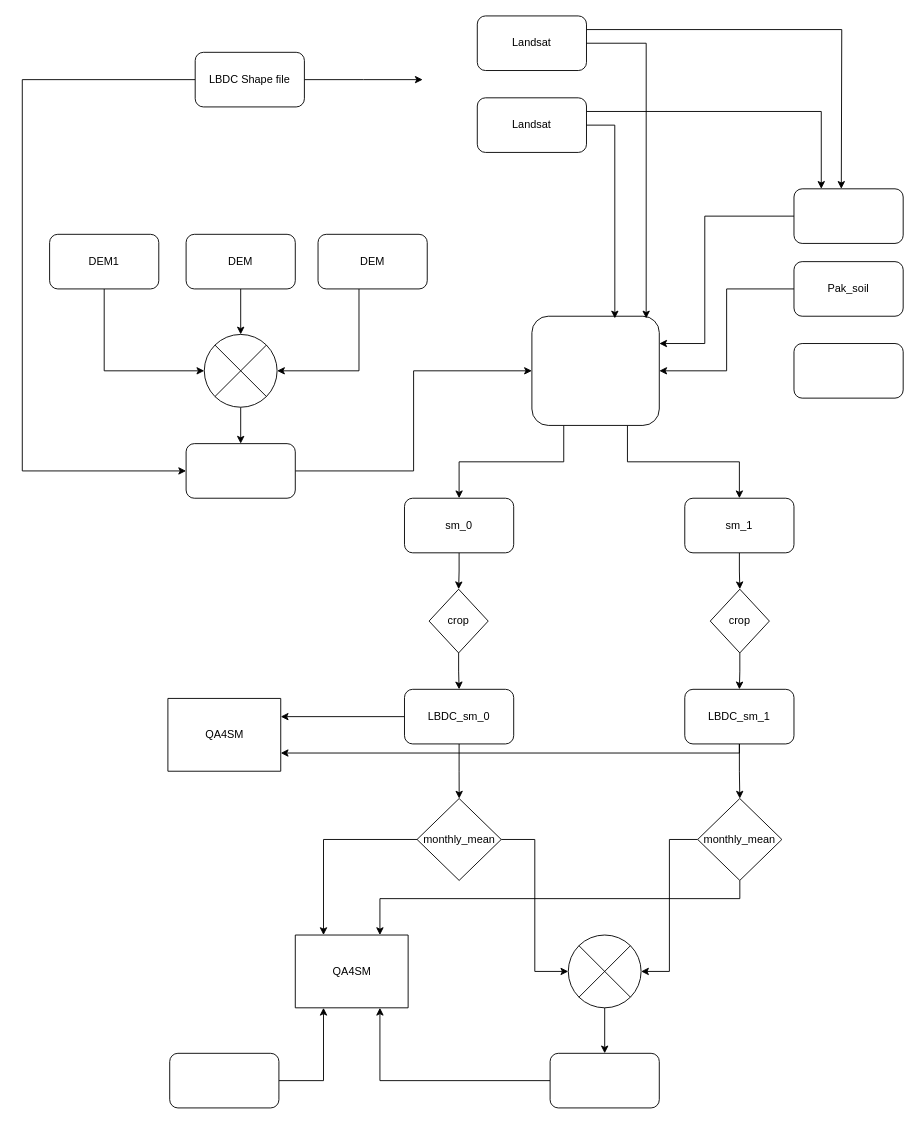
The diagram is 919 pixels wide and 1124 high, and some of its shapes have lost their labels. Here are the shapes that lost their labels. From the top down, the centre of each, then its label:
(x=848, y=215): Pak_meteo
(x=595, y=370): PySebal
(x=848, y=370): NDVI / LST / ... ?
(x=240, y=470): LBDC_DEM
(x=224, y=1080): LBDC_sm_250
(x=604, y=1080): LBDC_sm
